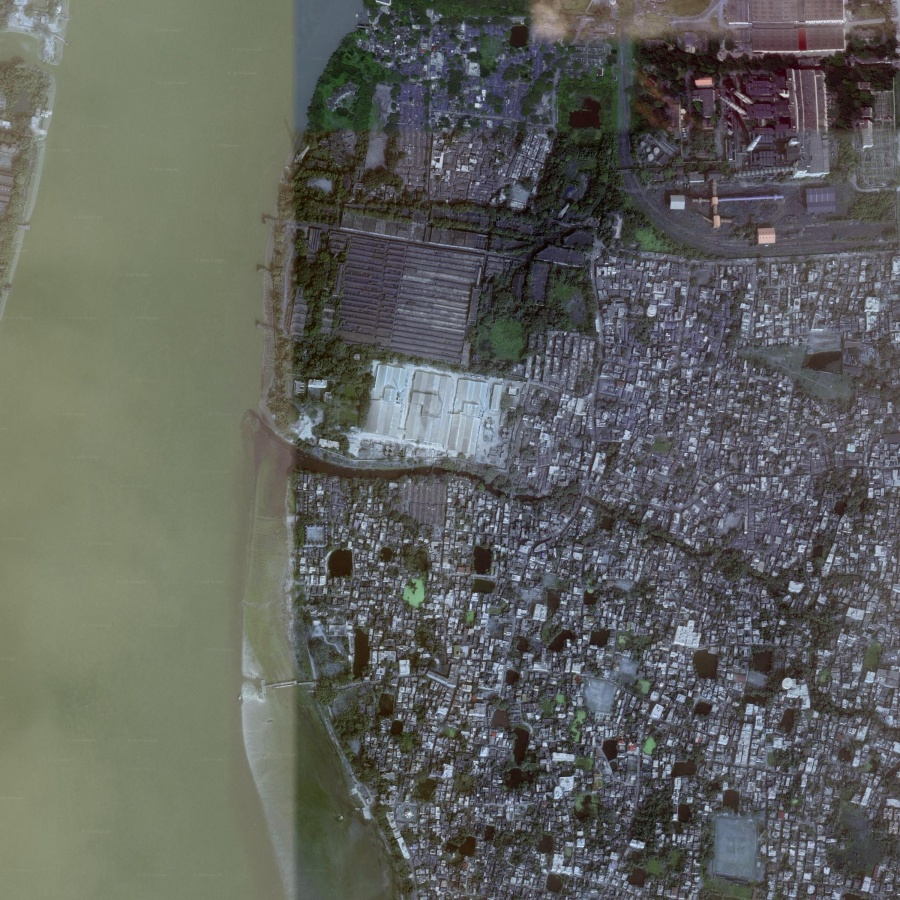PowerPlant: (624, 4, 869, 243)
